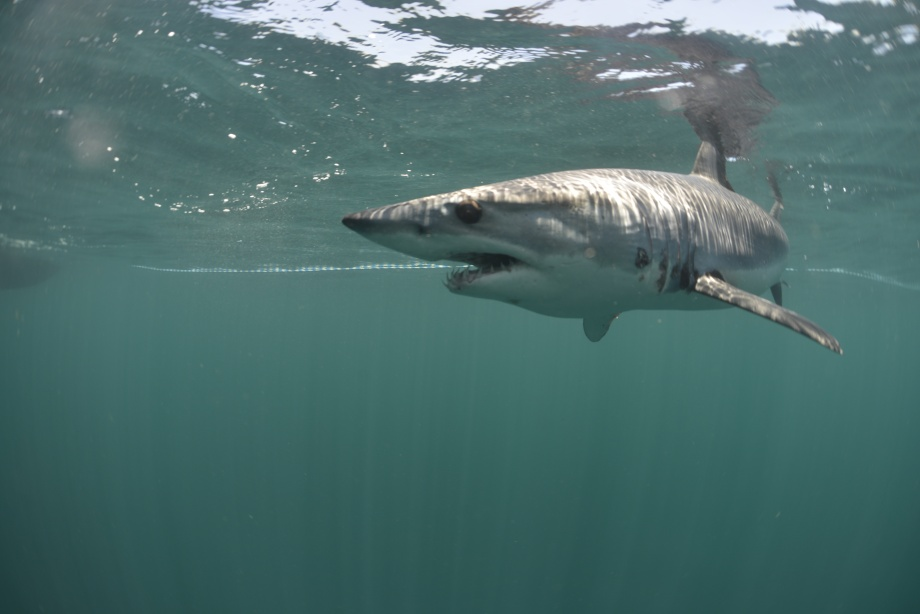Mako: (334, 134, 865, 370)
